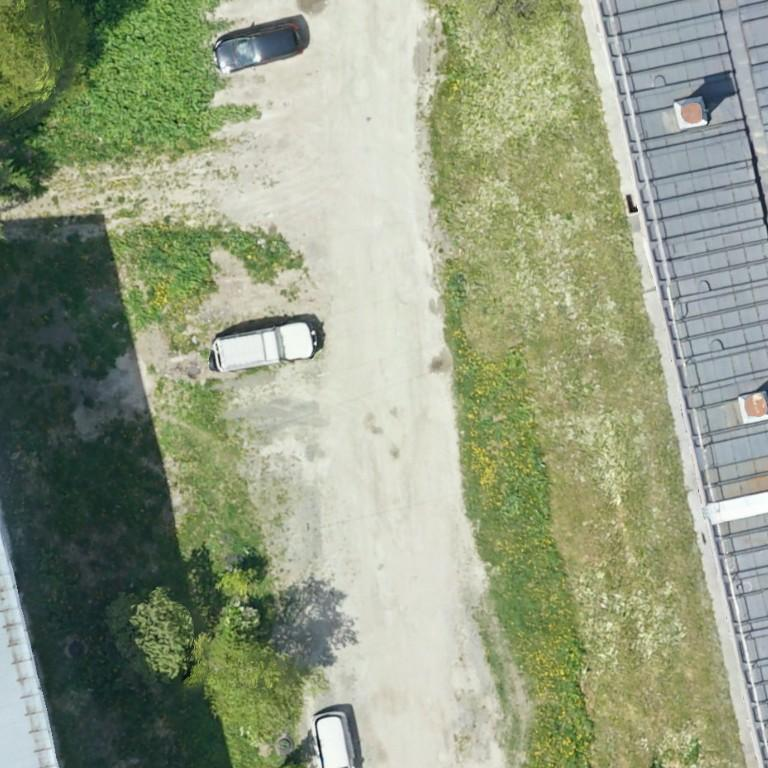hogweed: (32, 0, 244, 162)
